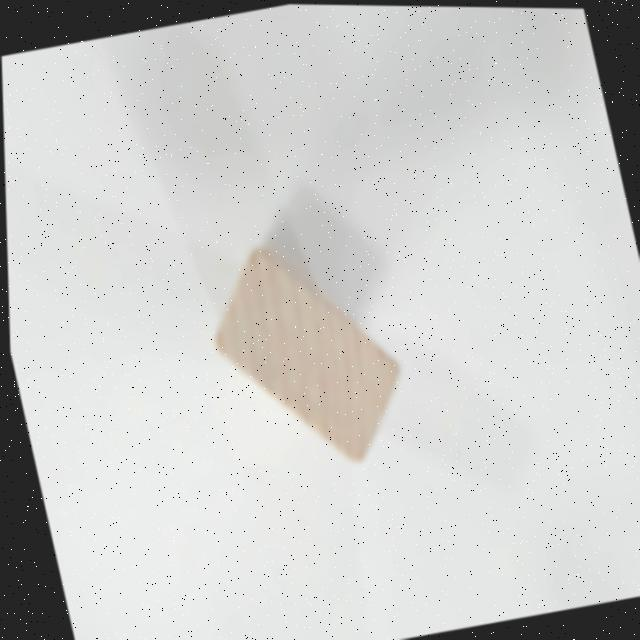Jenga: (191, 221, 421, 489)
